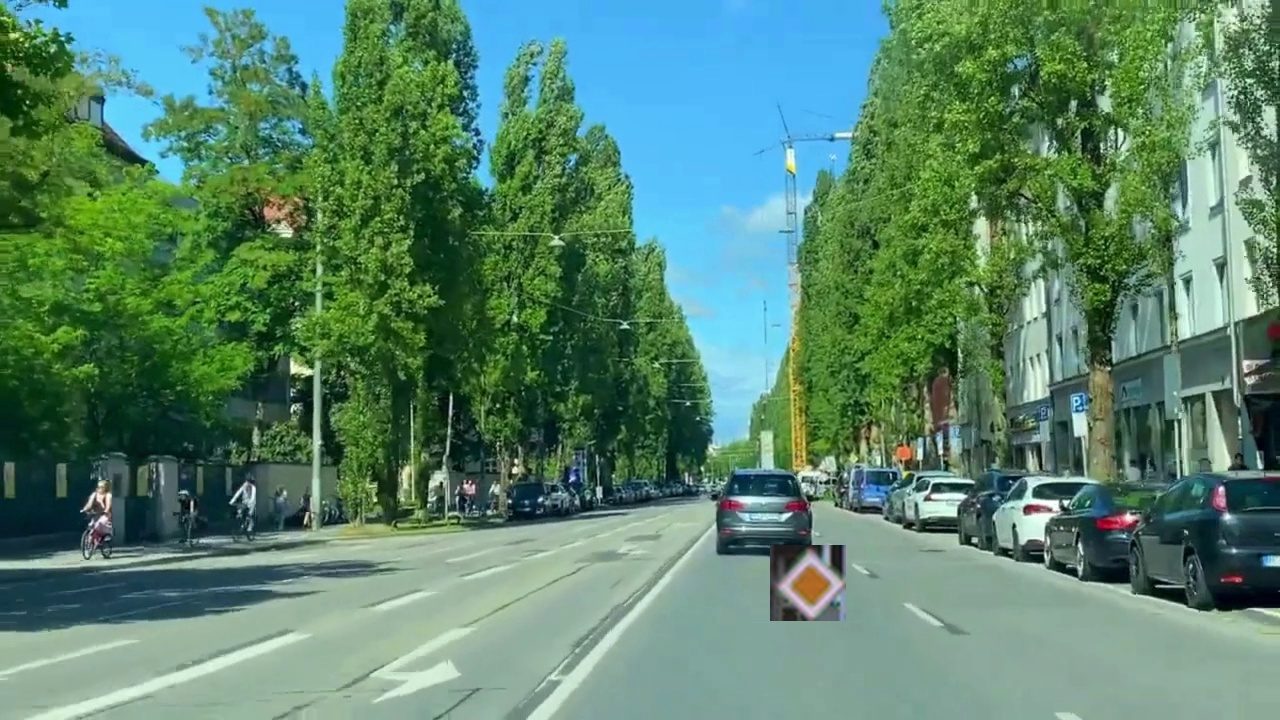Priority road: (770, 545, 846, 621)
